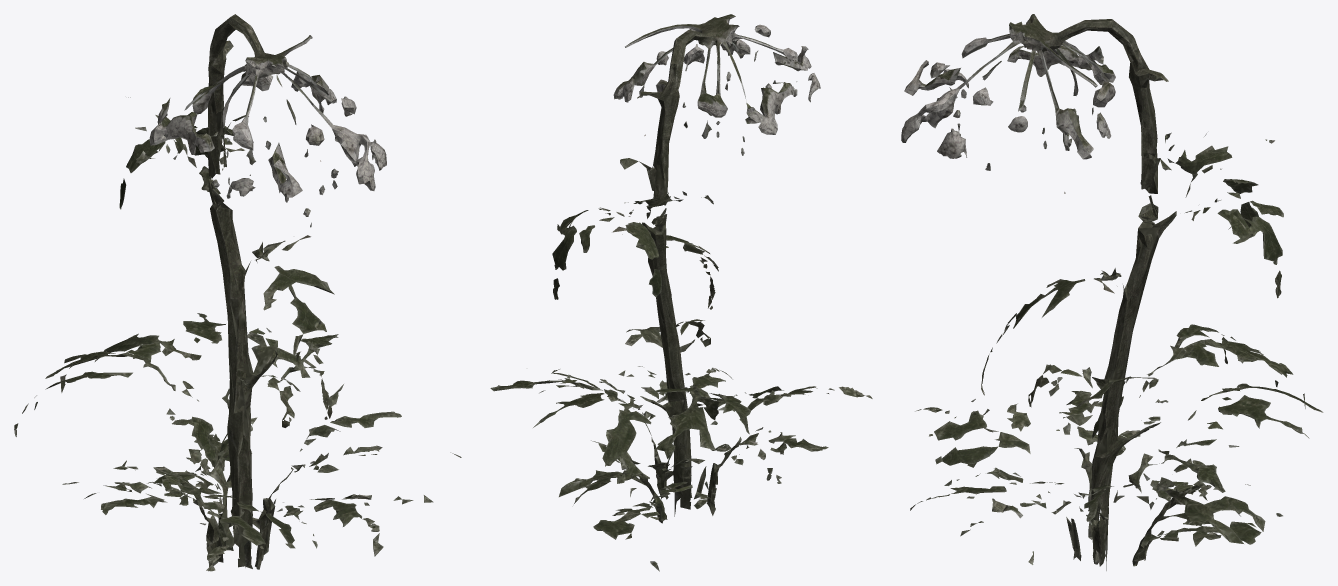
File: m13-hemlock.glb
3 views of the same model, side by side, from view 1: azimuth 30°, elevation 25°; view 2: azimuth 150°, elevation 25°; view 3: azimuth 270°, elevation 25° (orthographic). The views are drawn at different scales.
Bounding box in the file's own units: 1.24 × 1.88 × 1.31.
Materials: 1 (1 with a texture image).
